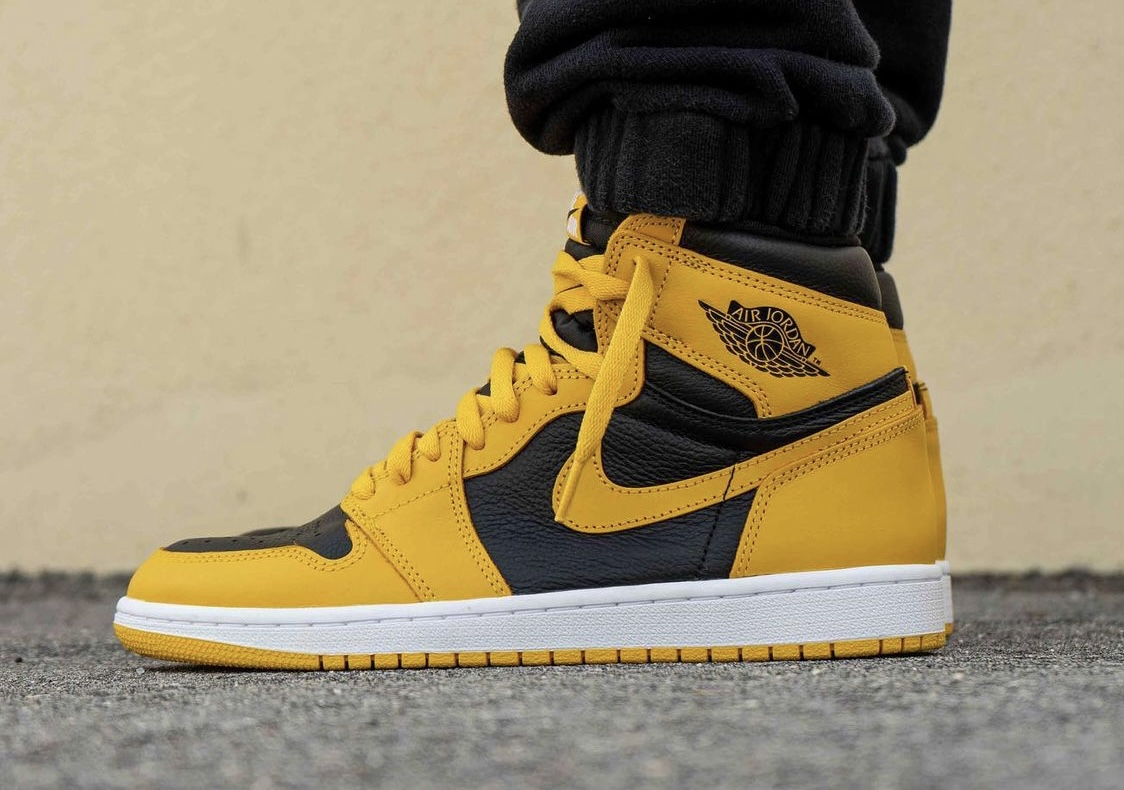Jordan 1: (106, 179, 952, 673)
